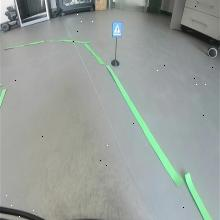crosswalk: (112, 21, 122, 38)
